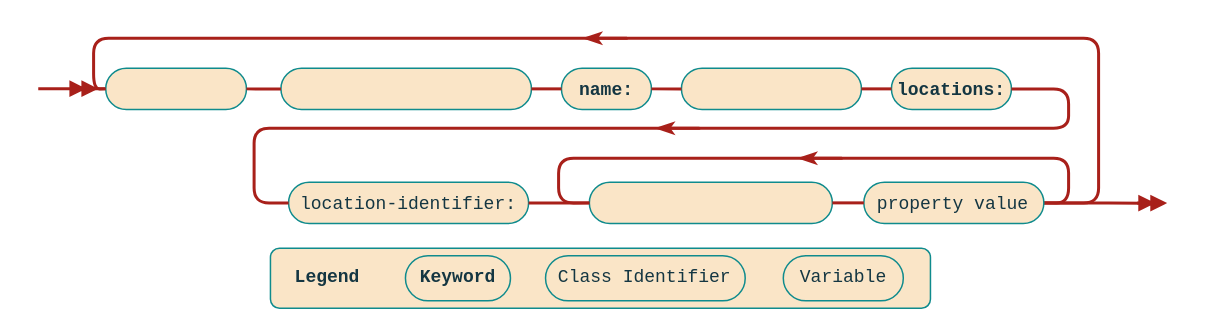
Image size: 1206x335. Some labels were removed from this diagram. Here are the shapes that lost their labels. From the top down, the box of each, then its label:
(104, 67, 246, 110): components:
(279, 67, 531, 110): component-identifier:
(680, 67, 861, 110): component name
(588, 181, 832, 224): property-identifier:
